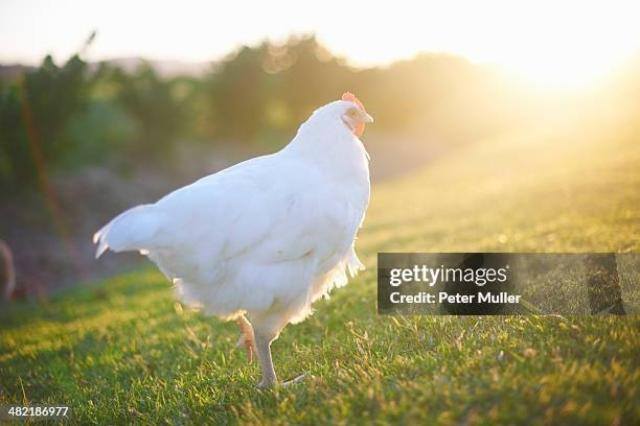Chicken: (92, 93, 374, 387)
